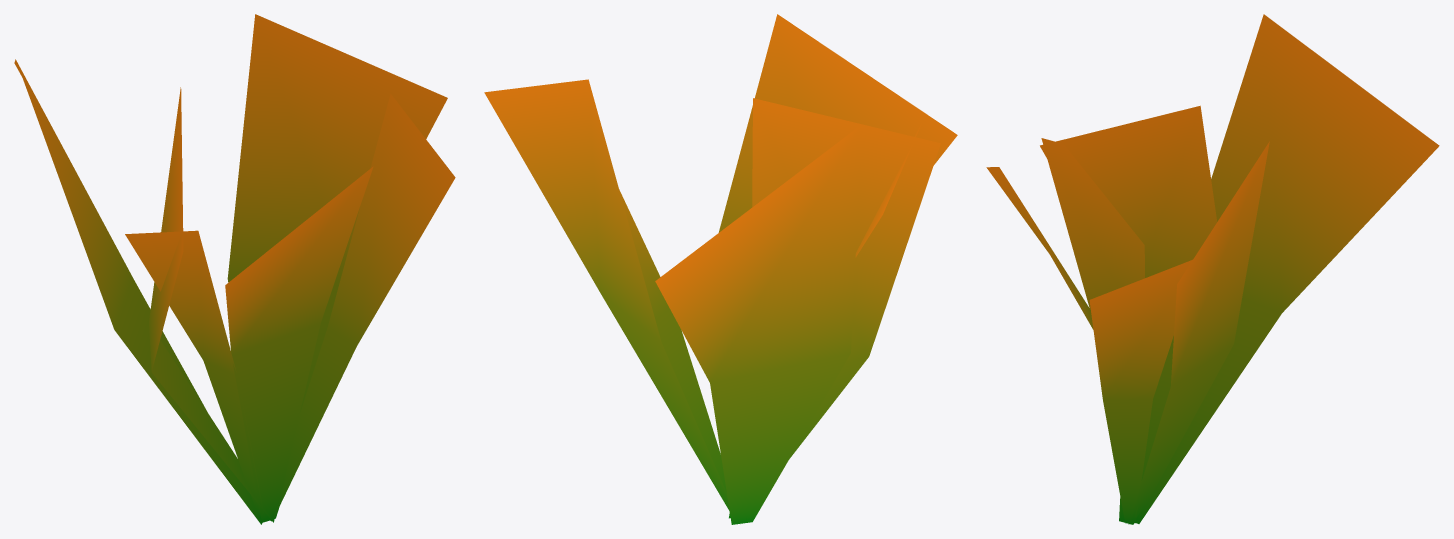
Rendered from Common Eelgrass_LOD3_Var4_sjglk.fbx.
The picture shows the model from 3 angles, left to right: view 1: azimuth 30°, elevation 25°; view 2: azimuth 150°, elevation 25°; view 3: azimuth 270°, elevation 25°; orthographic projection. The views are drawn at different scales.
Parts seen in each view (by area): view 1: _e67c_Var4_LOD3; view 2: _e67c_Var4_LOD3; view 3: _e67c_Var4_LOD3.
Part boxes in pixels (x1,y1,x2,y2): _e67c_Var4_LOD3: (14, 14, 455, 524); _e67c_Var4_LOD3: (484, 14, 957, 524); _e67c_Var4_LOD3: (986, 14, 1439, 524).
Size of the model in its own units: 57.01 by 64.04 by 61.76.
